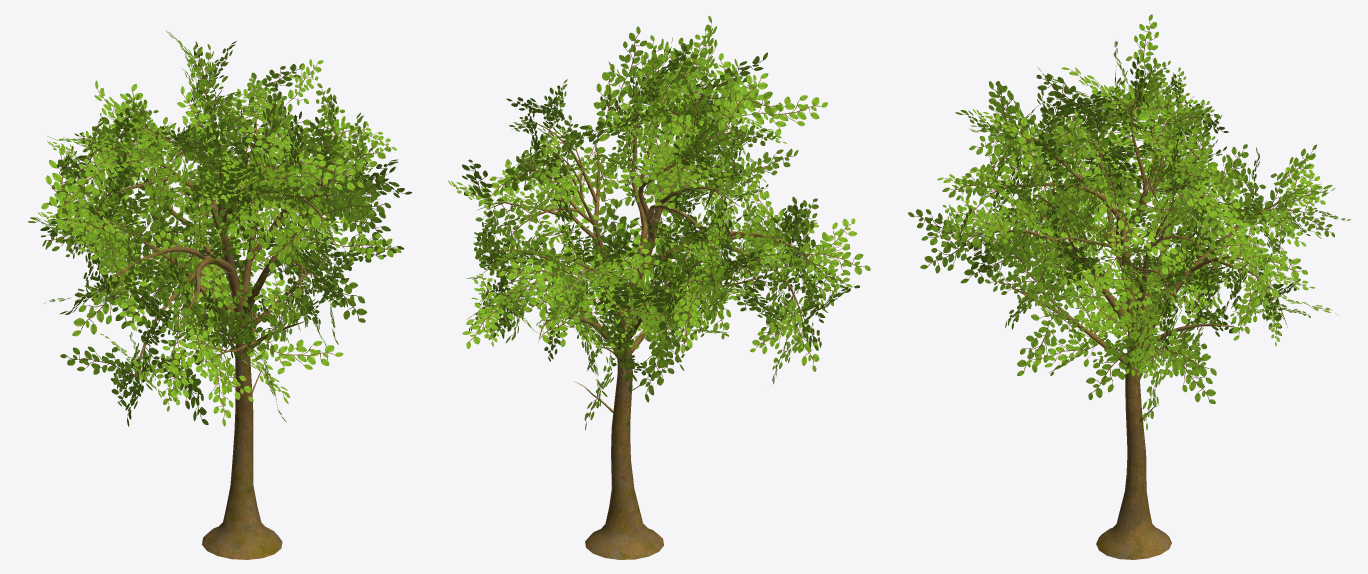
File: tree_birch.glb
3 renders of one model, left to right at view 1: azimuth 30°, elevation 25°; view 2: azimuth 150°, elevation 25°; view 3: azimuth 270°, elevation 25°, orthographic. The views are drawn at different scales.
Visible parts, largest first — view 1: tree_birch; view 2: tree_birch; view 3: tree_birch.
Part boxes in pixels (x1,y1,x2,y2): tree_birch: (28, 30, 411, 559); tree_birch: (448, 16, 870, 559); tree_birch: (908, 14, 1350, 559).
Bounding box in the file's own units: 5.24 × 7 × 5.67.
2 materials, 2 textured.
